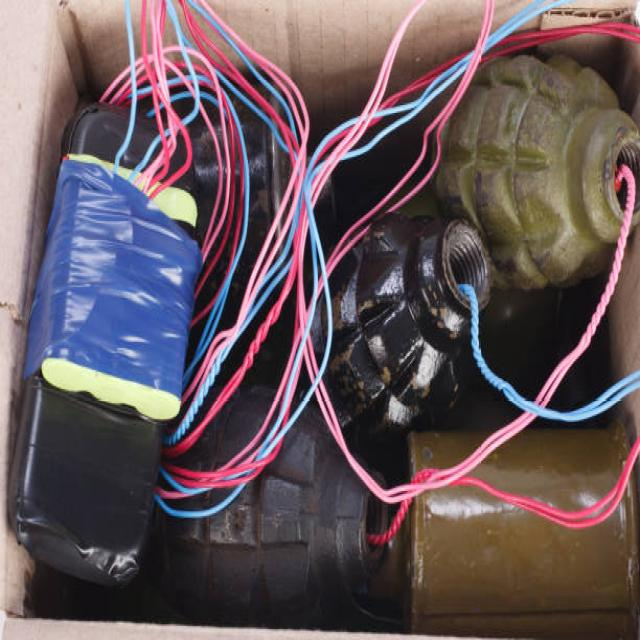grenade: (421, 42, 640, 296), (307, 214, 499, 429)
